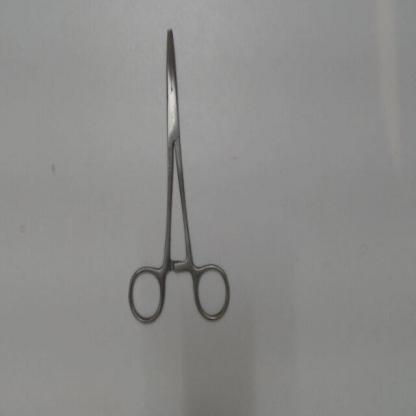Crile Artery Forceps: (121, 23, 235, 328)
